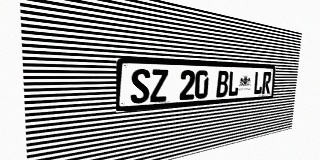0: (194, 70, 209, 99)
2: (179, 70, 195, 100)
B: (216, 71, 229, 97)
L: (227, 71, 240, 97), (253, 72, 263, 95)
R: (262, 72, 271, 94)
S: (130, 69, 150, 104)
Z: (150, 69, 168, 102)
